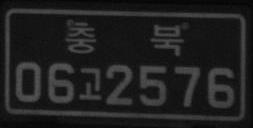0: (14, 61, 42, 103)
2: (105, 64, 132, 104)
5: (138, 64, 167, 106)
6: (46, 62, 75, 103), (206, 66, 234, 108)
7: (173, 65, 201, 108)
고: (79, 66, 101, 101)
충북_D: (65, 20, 183, 57)
